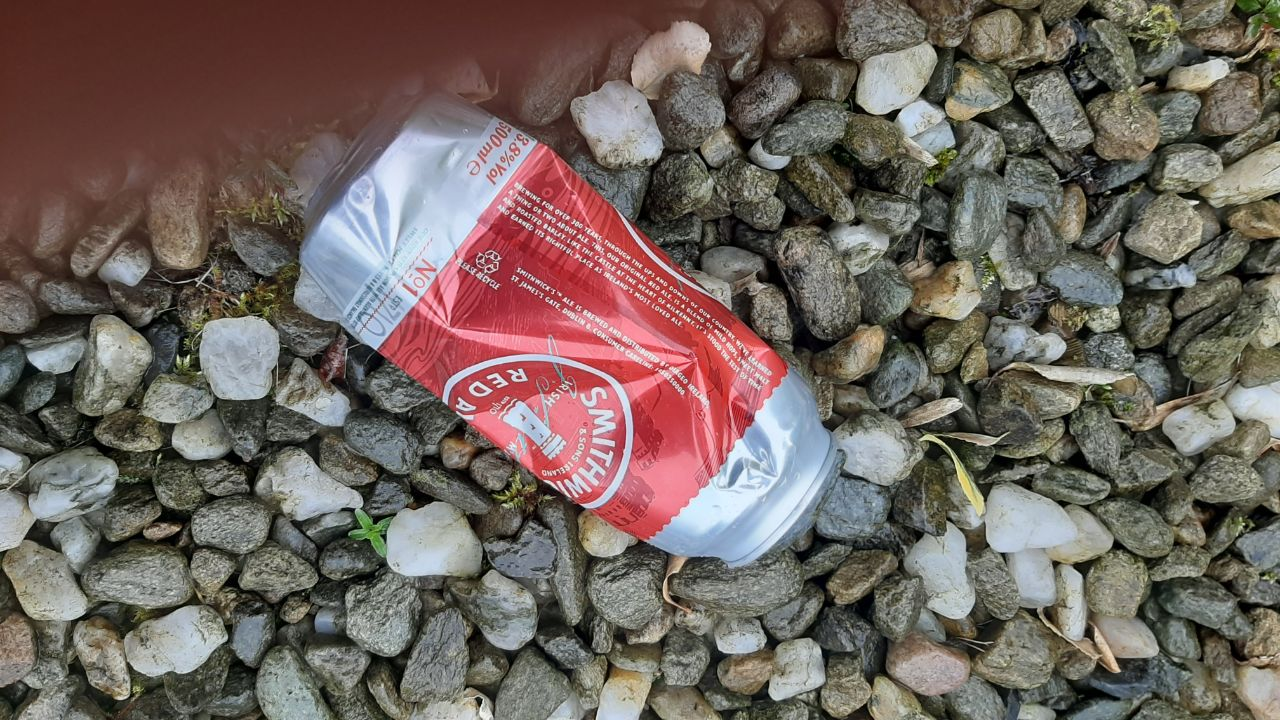Can: (291, 93, 852, 575)
